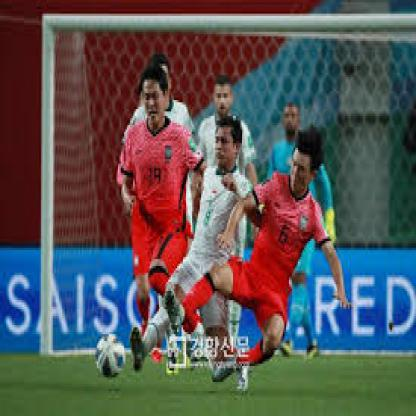Fall_Down: (165, 127, 352, 384)
